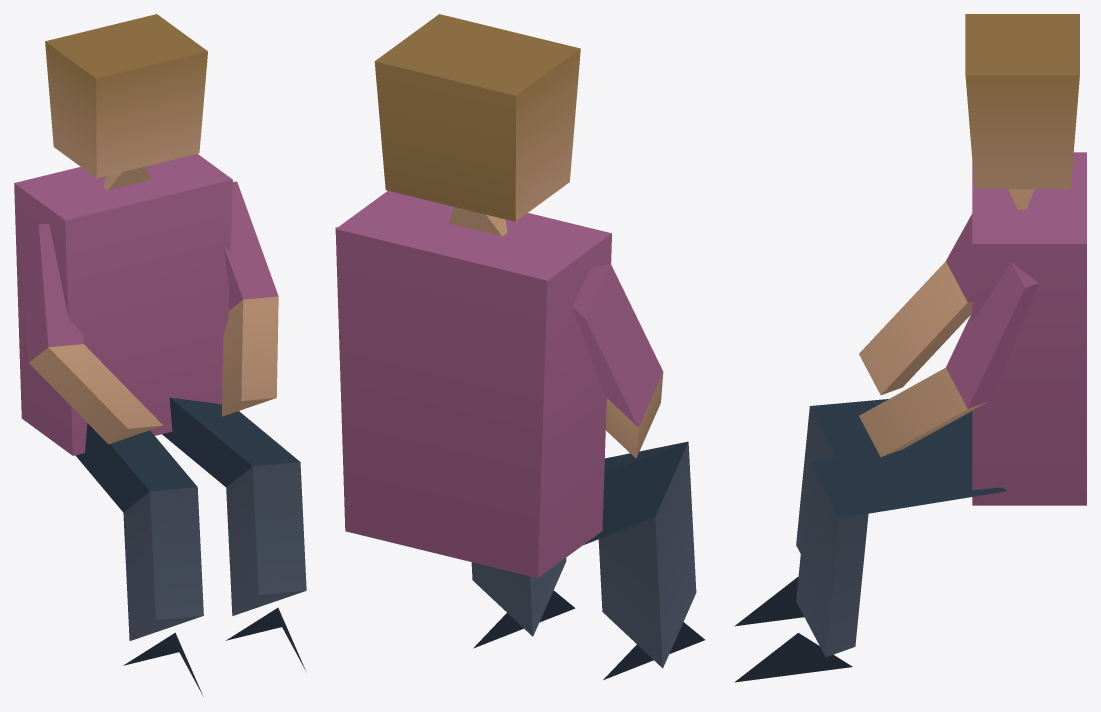
The model's file is fan-05.glb.
The picture shows the model from 3 angles, left to right: view 1: azimuth 30°, elevation 25°; view 2: azimuth 150°, elevation 25°; view 3: azimuth 270°, elevation 25°; orthographic projection. The views are drawn at different scales.
Visible parts, largest first — view 1: fan-05; view 2: fan-05; view 3: fan-05.
Part boxes in pixels (x1,y1,x2,y2): fan-05: (14, 14, 306, 696); fan-05: (335, 14, 704, 679); fan-05: (734, 14, 1086, 682).
Size of the model in its own units: 0.6775 by 1.47 by 0.77.
